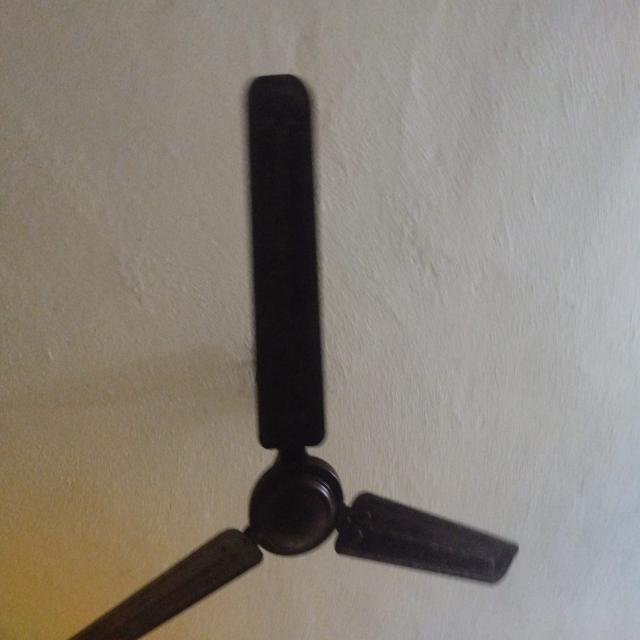fan_off: (75, 78, 514, 640)
